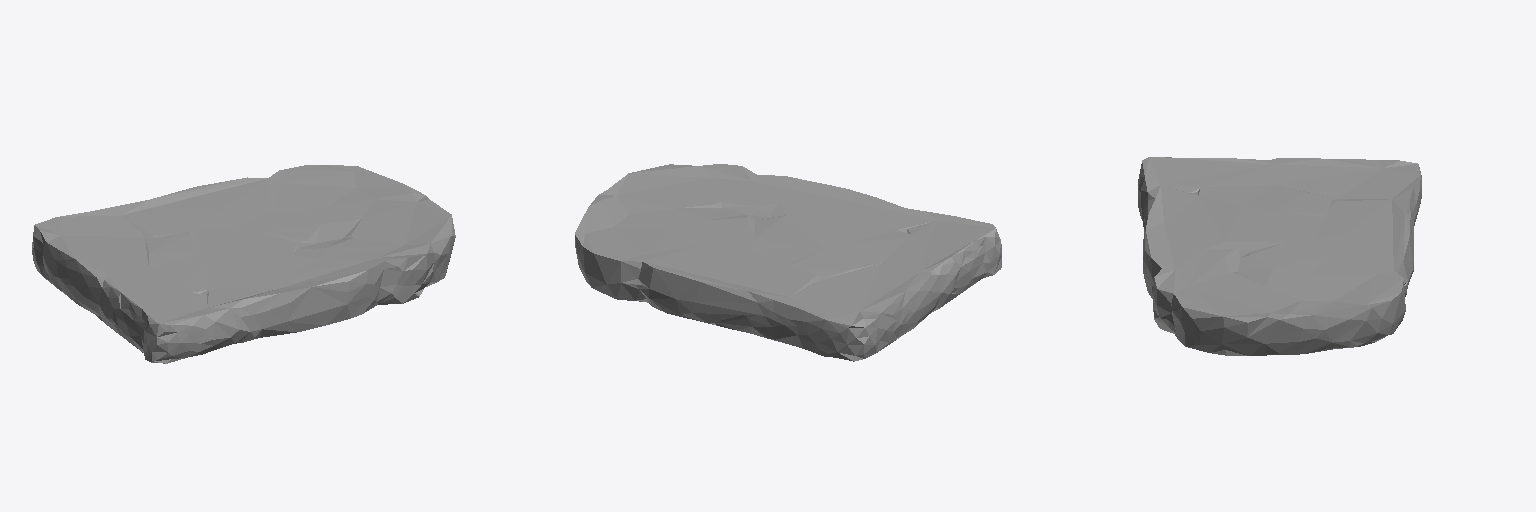
File: baguette.obj
3 renders of one model, left to right at view 1: azimuth 30°, elevation 25°; view 2: azimuth 150°, elevation 25°; view 3: azimuth 270°, elevation 25°, orthographic.
Parts seen in each view (by area): view 1: bucket_fix_pan_scan.001; view 2: bucket_fix_pan_scan.001; view 3: bucket_fix_pan_scan.001.
Boxes of the visible parts, <box> form: bucket_fix_pan_scan.001: <box>32,165,455,363</box>; bucket_fix_pan_scan.001: <box>575,164,1001,361</box>; bucket_fix_pan_scan.001: <box>1138,157,1421,355</box>.
Bounding box in the file's own units: 0.517 × 0.065 × 0.3743.